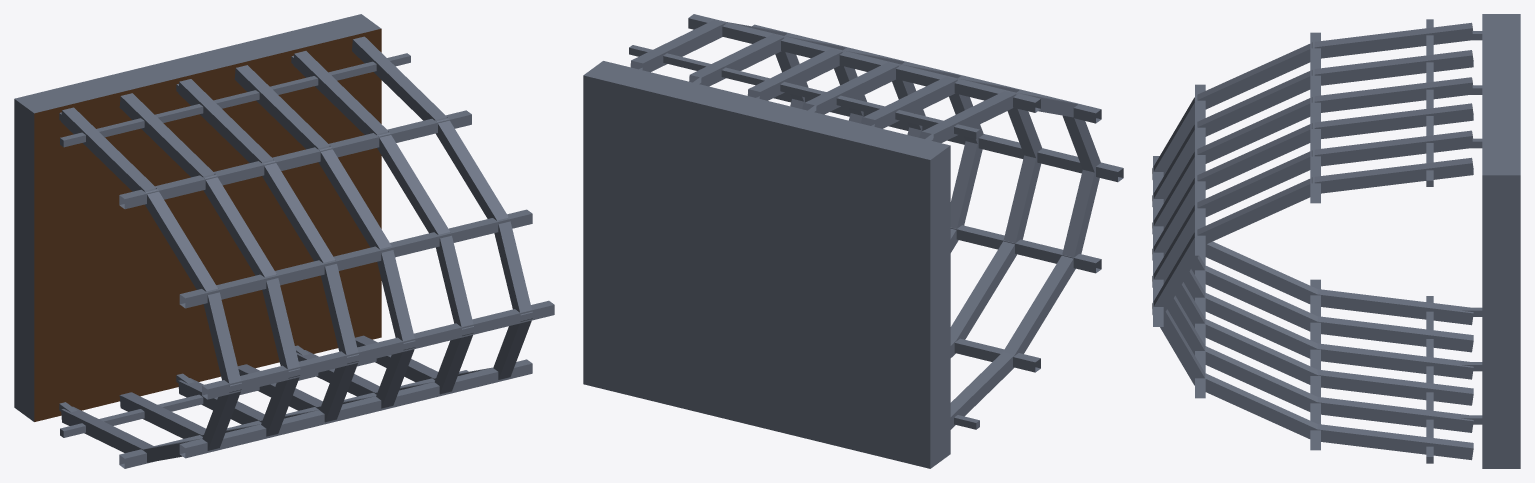
File: middle.glb
The picture shows the model from 3 angles, left to right: view 1: azimuth 30°, elevation 25°; view 2: azimuth 150°, elevation 25°; view 3: azimuth 270°, elevation 25°; orthographic projection. The views are drawn at different scales.
Visible parts, largest first — view 1: bridge_12_middle; view 2: bridge_12_middle; view 3: bridge_12_middle.
Part boxes in pixels (left/top/right/bottom): bridge_12_middle: left=14, top=14, right=554, bottom=468; bridge_12_middle: left=583, top=14, right=1123, bottom=468; bridge_12_middle: left=1152, top=14, right=1520, bottom=468.
Size of the model in its own units: 16 by 13.75 by 15.44.
